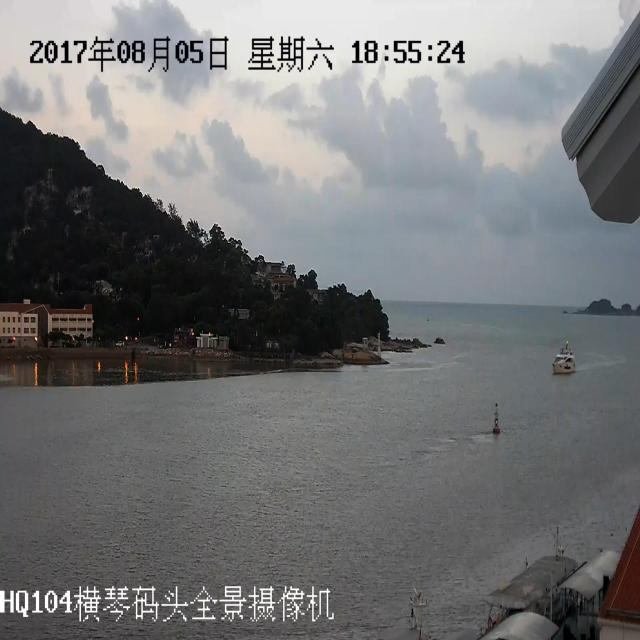buoy: (484, 396, 506, 446)
passenger ship: (544, 342, 576, 374)
reef: (562, 272, 640, 316)
